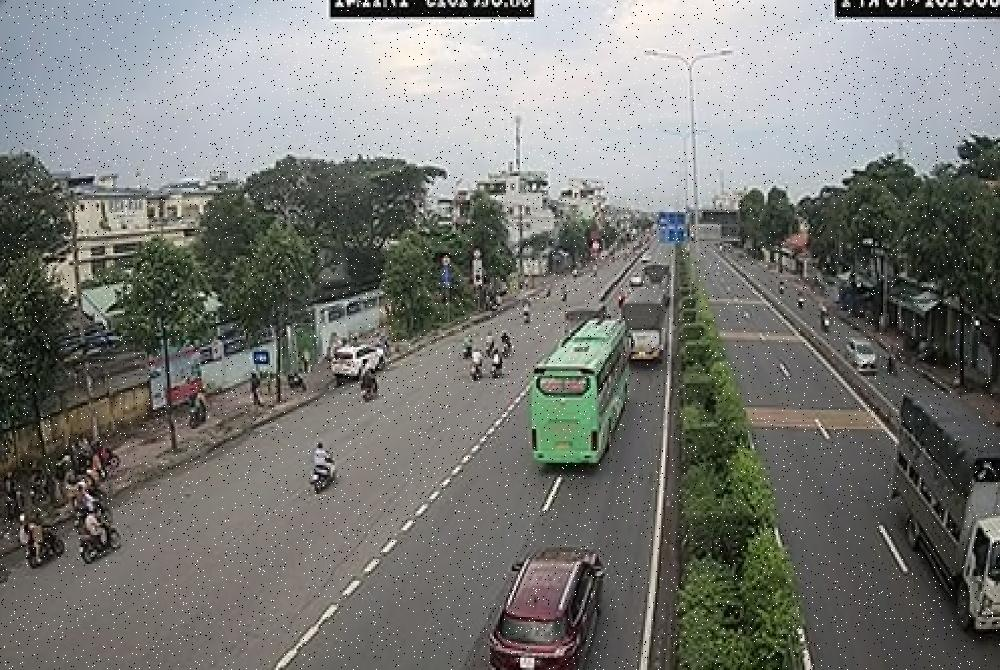bus: (527, 320, 632, 466)
car: (488, 544, 605, 670), (332, 329, 396, 392)
motorbike: (309, 464, 333, 492)
truck: (857, 349, 1000, 670), (613, 270, 675, 392)
